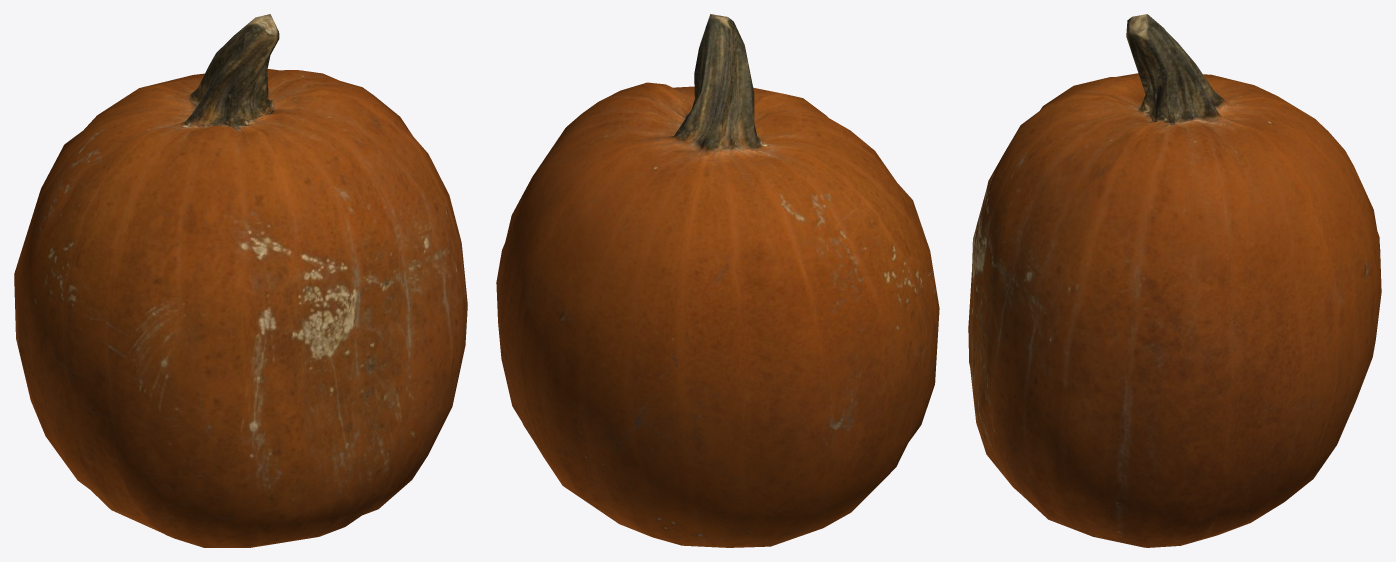
The model's file is pumpkin_b.gltf.
3 views of the same model, side by side, from view 1: azimuth 30°, elevation 25°; view 2: azimuth 150°, elevation 25°; view 3: azimuth 270°, elevation 25° (orthographic).
Parts seen in each view (by area): view 1: pumpkin_b2; view 2: pumpkin_b2; view 3: pumpkin_b2.
Boxes of the visible parts, x1,y1,x2,y2 form: pumpkin_b2: (14, 14, 467, 547); pumpkin_b2: (496, 14, 939, 547); pumpkin_b2: (968, 14, 1381, 547).
Size of the model in its own units: 83.57 by 99.83 by 75.96.
Materials: 1 (1 with a texture image).
